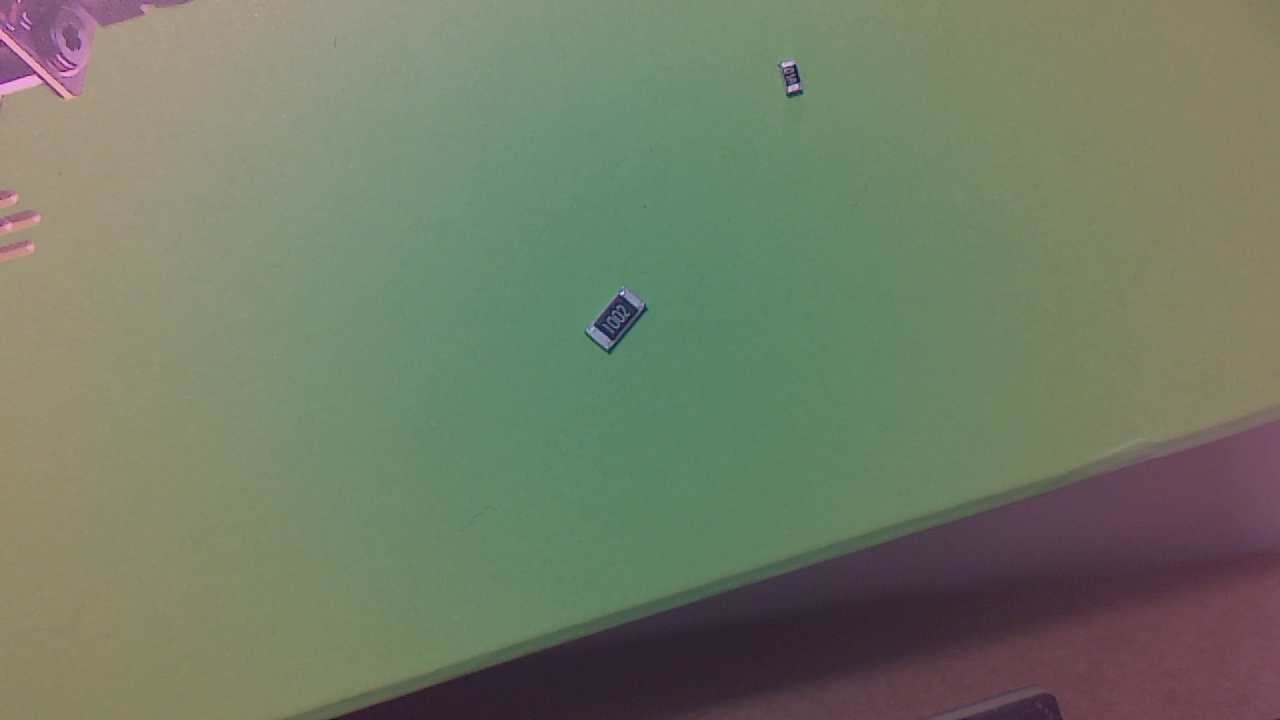Resistor: (584, 292, 651, 359), (782, 63, 811, 103)
